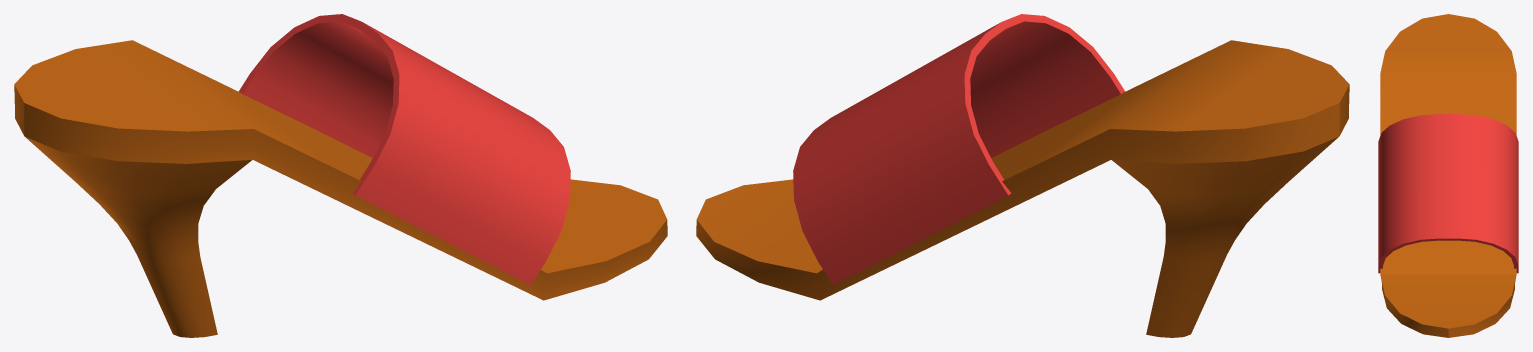
The model's file is womans_sandal.glb.
The picture shows the model from 3 angles, left to right: view 1: azimuth 30°, elevation 25°; view 2: azimuth 150°, elevation 25°; view 3: azimuth 270°, elevation 25°; orthographic projection. The views are drawn at different scales.
Parts seen in each view (by area): view 1: Circle.1808; view 2: Circle.1808; view 3: Circle.1808.
Part boxes in pixels (x1,y1,x2,y2): Circle.1808: (14, 14, 667, 337); Circle.1808: (696, 14, 1349, 337); Circle.1808: (1378, 14, 1518, 337).
Size of the model in its own units: 2.22 by 0.8979 by 0.759.
Materials: 1 (1 with a texture image).
